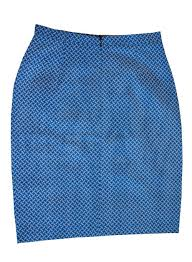C_skirt: (6, 16, 187, 253)
